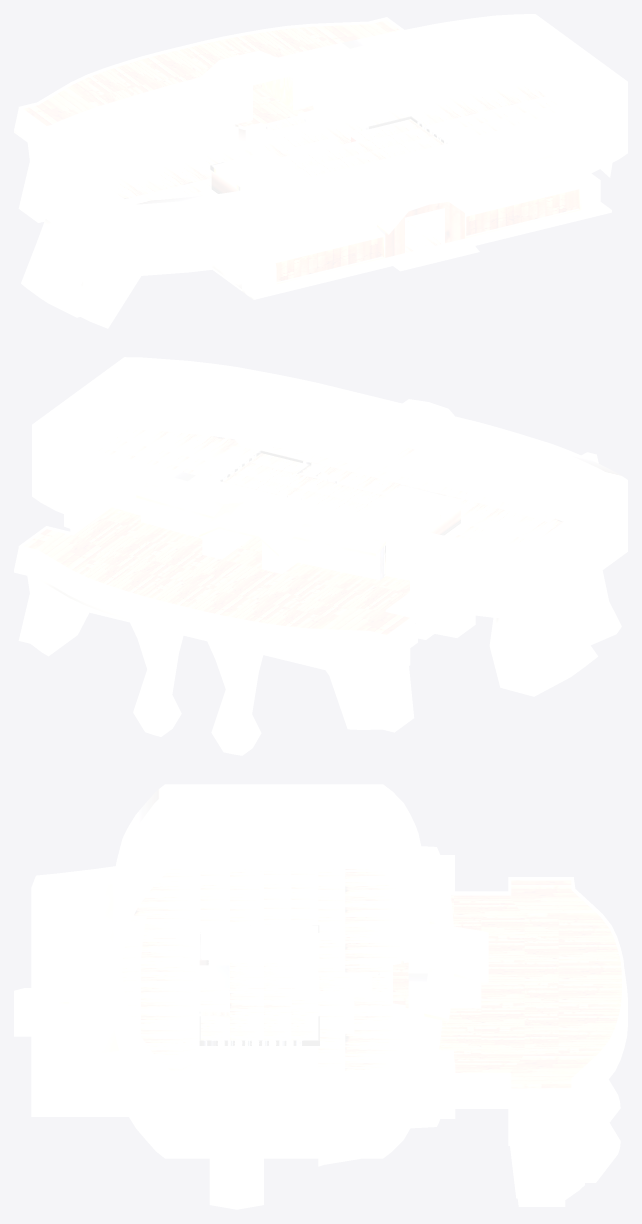
Rendered from mansion_main.glb.
3 renders of one model, top to bottom at view 1: azimuth 30°, elevation 25°; view 2: azimuth 150°, elevation 25°; view 3: azimuth 270°, elevation 25°, orthographic. The views are drawn at different scales.
Visible parts, largest first — view 1: Box003.003; view 2: Box003.003; view 3: Box003.003.
Boxes of the visible parts, x1,y1,x2,y2 form: Box003.003: (14,14,627,328); Box003.003: (14,357,627,755); Box003.003: (14,784,627,1209).
Size of the model in its own units: 273 by 91.88 by 226.
Materials: 1 (1 with a texture image).
